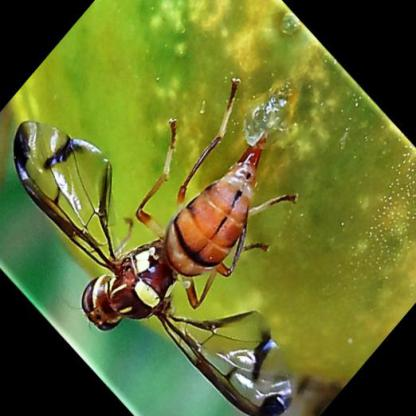fruit fly: (13, 77, 295, 415)
